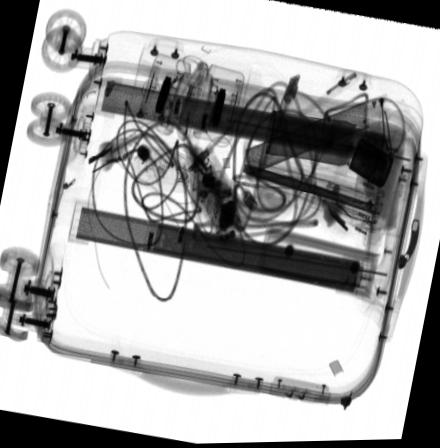Lighter: (347, 139, 393, 190)
